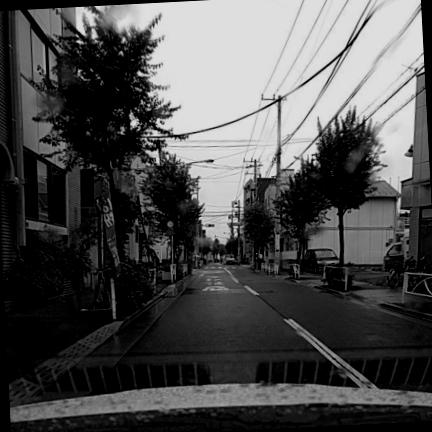Road: (94, 264, 431, 393)
